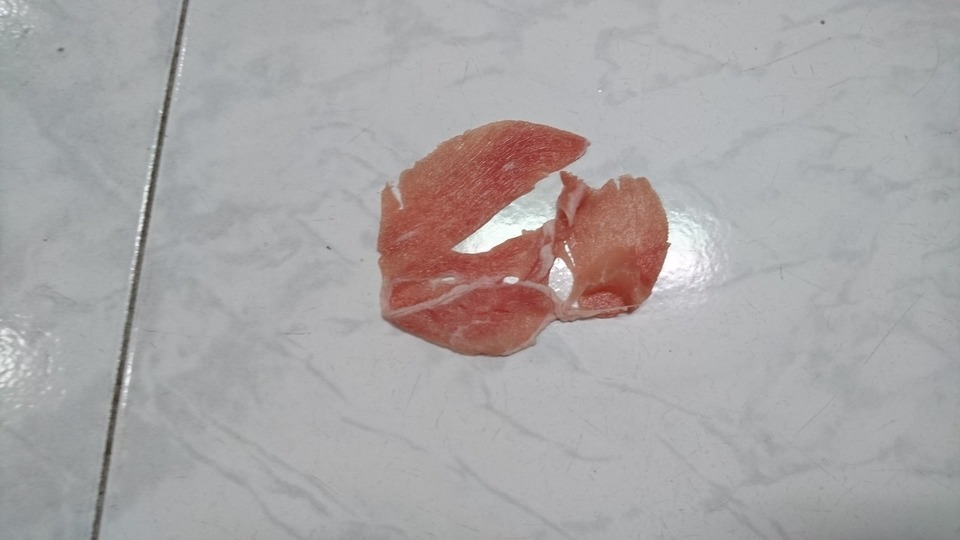restructured meat: (376, 116, 673, 362)
